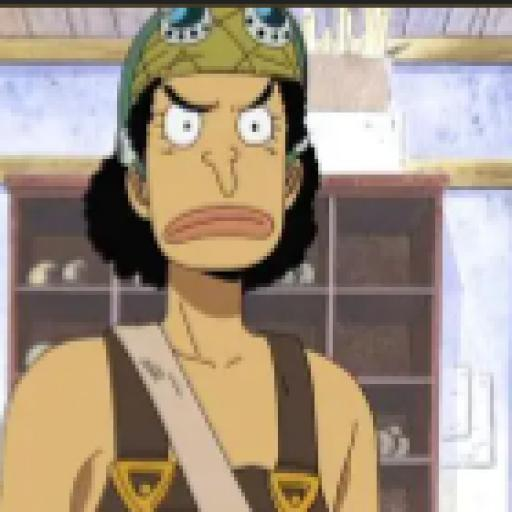Usopp: (2, 6, 397, 512)
